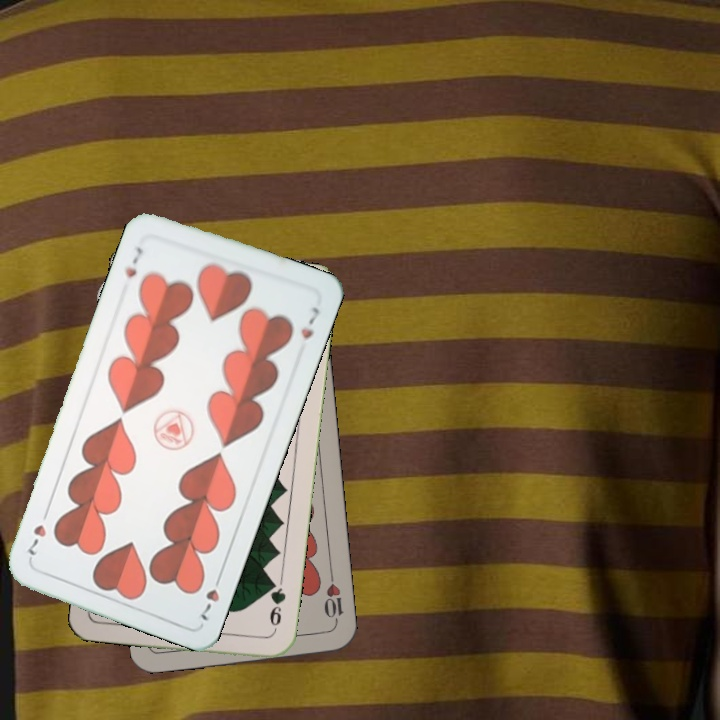G9: (265, 576, 289, 636)
H10: (319, 570, 346, 629)
H7: (195, 568, 225, 624), (120, 243, 146, 281)
